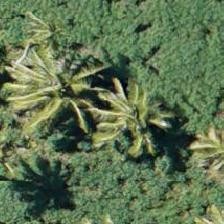coconut_tree: (14, 46, 104, 136), (104, 71, 194, 161)
